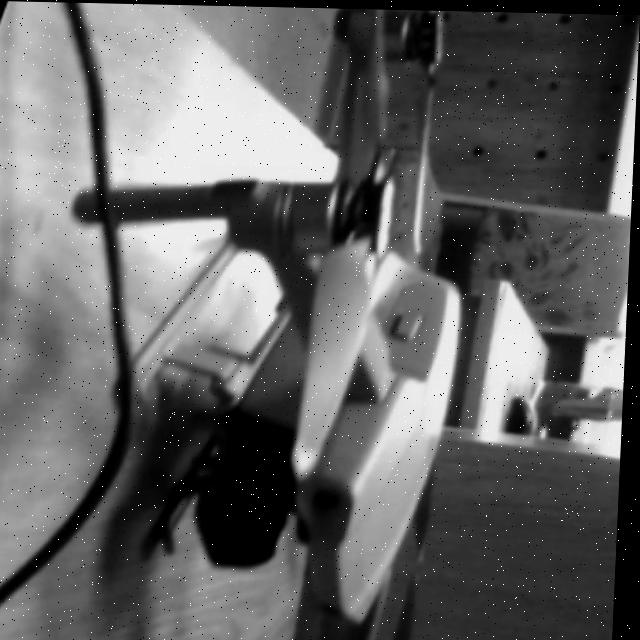drone: (63, 11, 496, 640)
